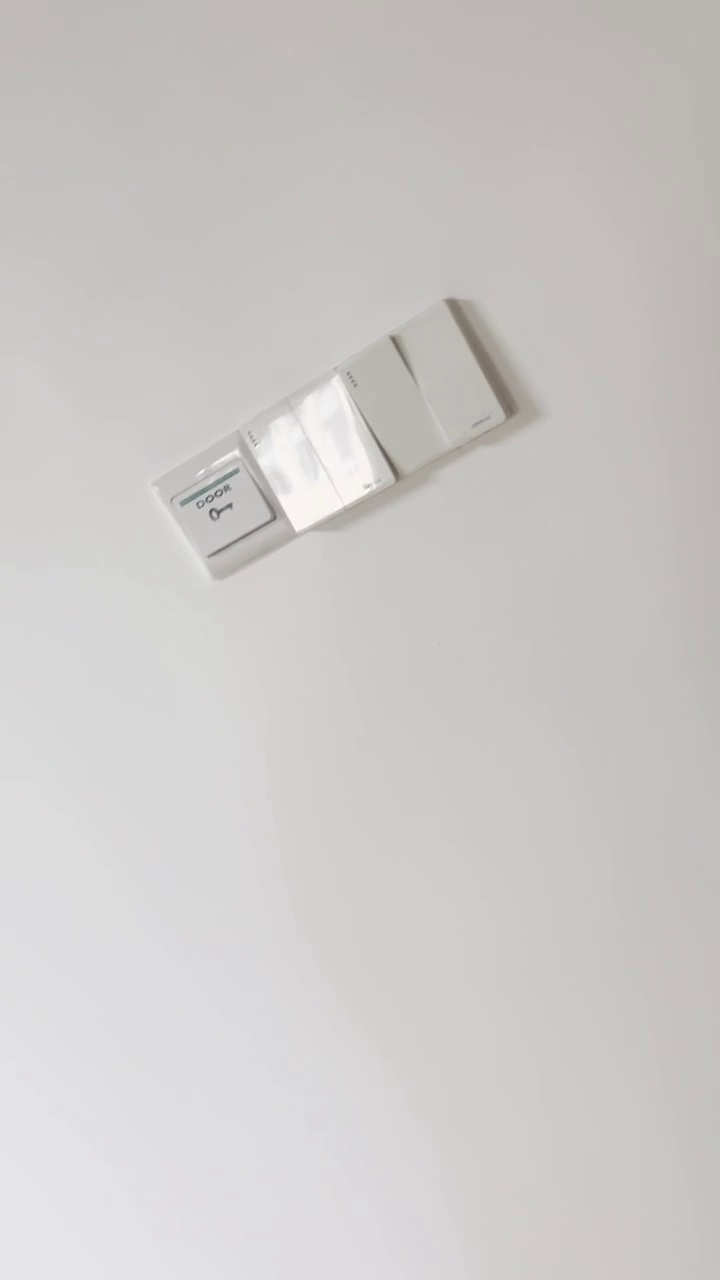button: (332, 302, 517, 473), (242, 369, 403, 535)
